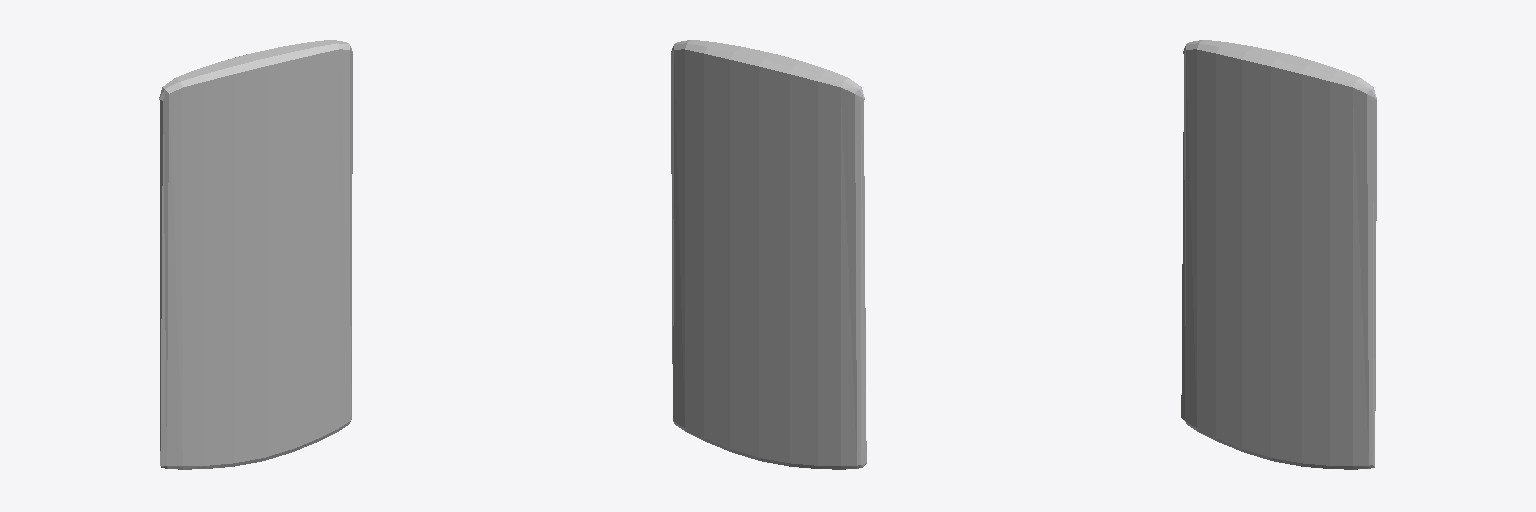
3 renders of one model, left to right at view 1: azimuth 30°, elevation 25°; view 2: azimuth 150°, elevation 25°; view 3: azimuth 330°, elevation 25°, orthographic.
Visible parts, largest first — view 1: Sony_Walkman_e394; view 2: Sony_Walkman_e394; view 3: Sony_Walkman_e394.
Part boxes in pixels (left/top/right/bottom): Sony_Walkman_e394: left=159, top=40, right=352, bottom=469; Sony_Walkman_e394: left=671, top=40, right=866, bottom=469; Sony_Walkman_e394: left=1181, top=40, right=1376, bottom=469.
Bounding box in the file's own units: 0.5078 × 0.997 × 0.0773.